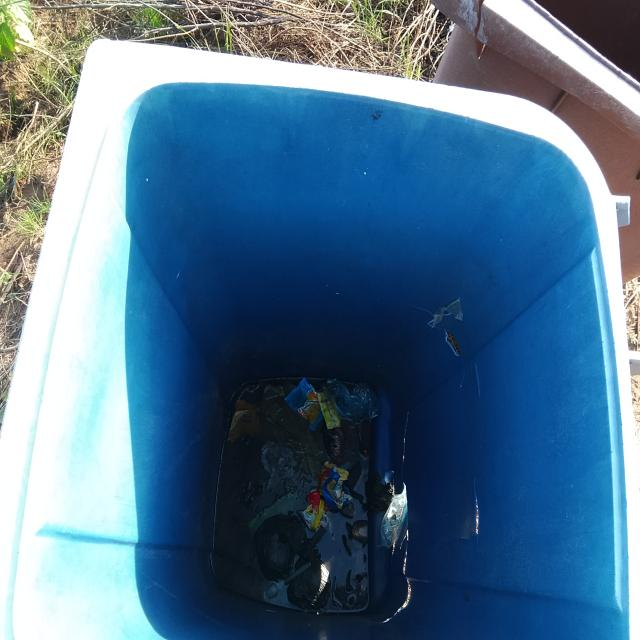empty: (39, 56, 625, 640)
